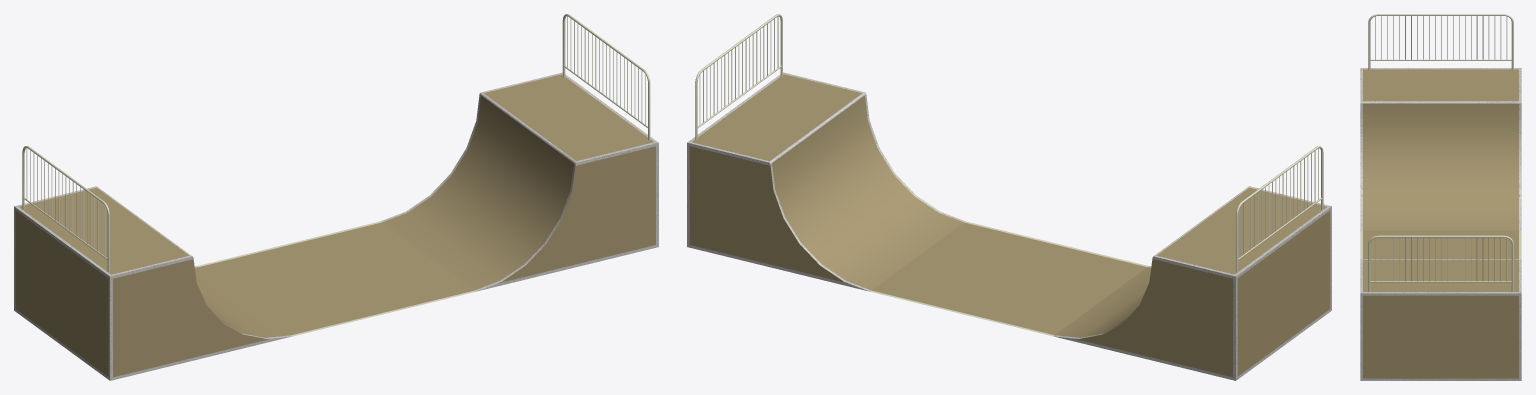
File: skate_halfpipe_ramp.dae
The picture shows the model from 3 angles, left to right: view 1: azimuth 30°, elevation 25°; view 2: azimuth 150°, elevation 25°; view 3: azimuth 270°, elevation 25°; orthographic projection. The views are drawn at different scales.
Visible parts, largest first — view 1: quarter (×9), SketchUp, Steel_Barrier (×2); view 2: quarter (×9), SketchUp, Steel_Barrier (×2); view 3: quarter (×6), SketchUp, Steel_Barrier (×2).
Boxes of the visible parts, x1=… form: quarter (×9): x1=14, y1=72, x2=658, y2=380; SketchUp: x1=199, y1=222, x2=473, y2=334; Steel_Barrier (×2): x1=22, y1=14, x2=650, y2=271; quarter (×9): x1=687, y1=72, x2=1331, y2=380; SketchUp: x1=872, y1=222, x2=1146, y2=334; Steel_Barrier (×2): x1=695, y1=14, x2=1323, y2=271; quarter (×6): x1=1360, y1=68, x2=1521, y2=380; SketchUp: x1=1363, y1=231, x2=1518, y2=259; Steel_Barrier (×2): x1=1368, y1=14, x2=1513, y2=291.
Size of the model in its own units: 396 by 120 by 118.
